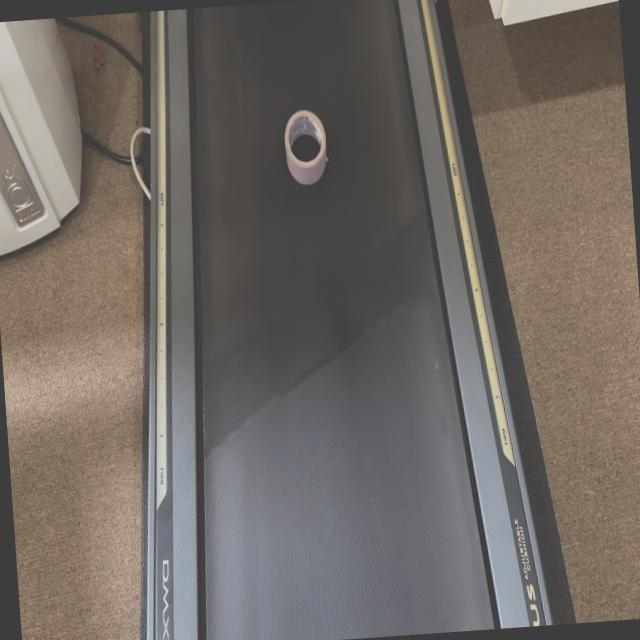Trash: (282, 105, 338, 186)
